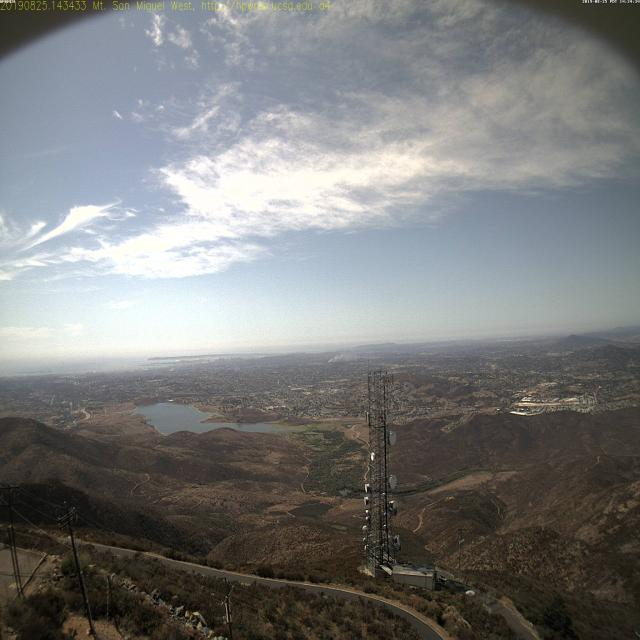smoke: (322, 346, 358, 368)
